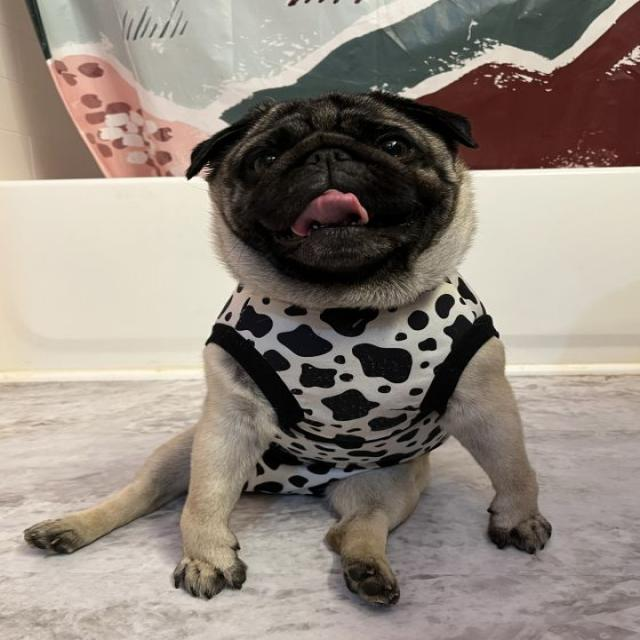pug_dog: (172, 76, 491, 322)
